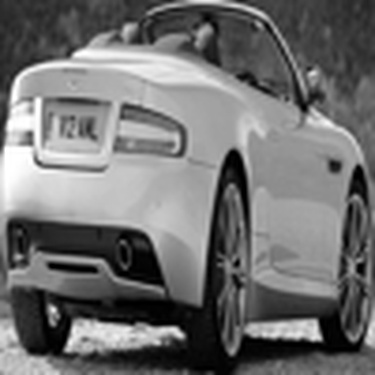car: (8, 1, 372, 371)
